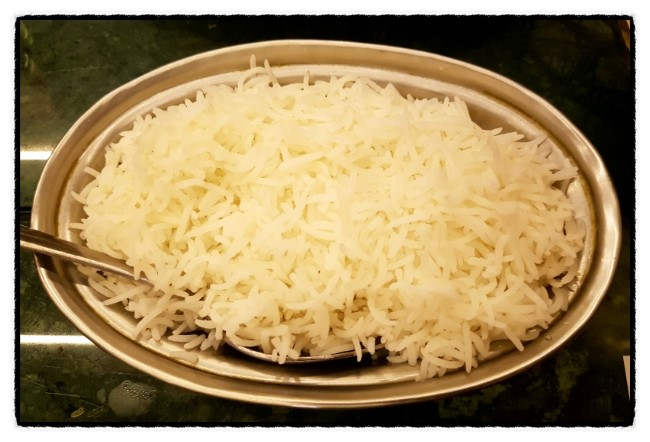plain rice: (151, 106, 529, 306)
